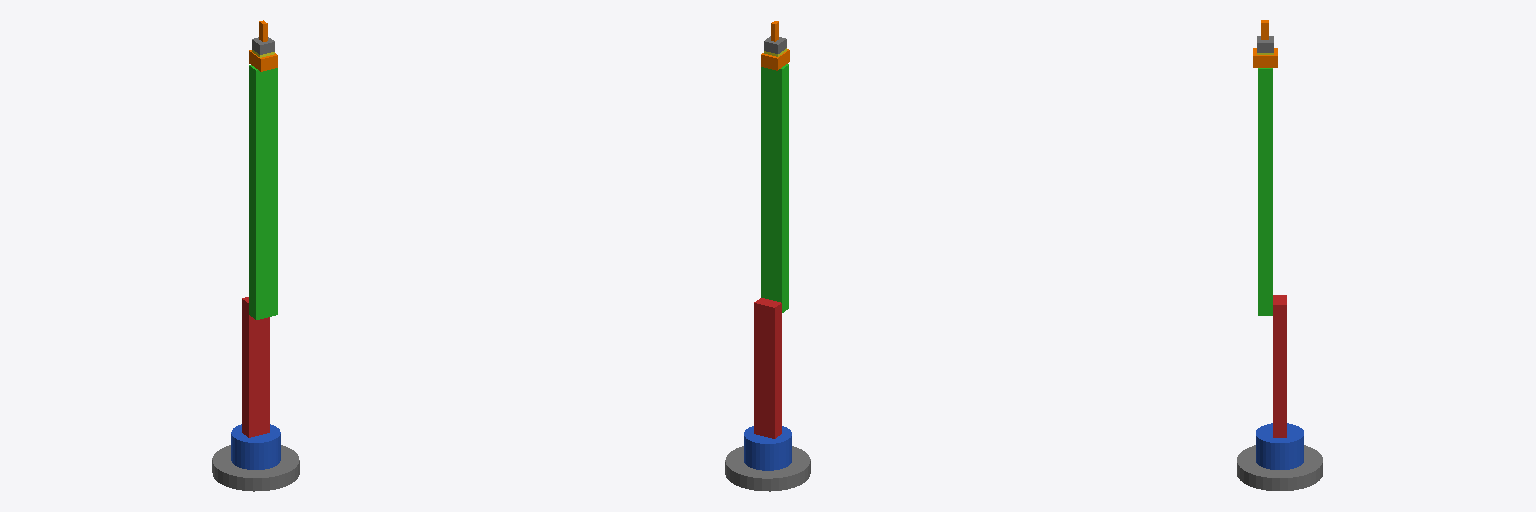
The robot description file, URDF, robot "arm":
<?xml version="1.0"?>
<robot name="arm">

  <material name="gray">   <color rgba="0.5 0.5 0.5 1.0"/></material>
  <material name="blue">   <color rgba="0.2 0.4 0.8 1.0"/></material>
  <material name="red">    <color rgba="0.8 0.2 0.2 1.0"/></material>
  <material name="green">  <color rgba="0.2 0.8 0.2 1.0"/></material>
  <material name="orange"> <color rgba="1.0 0.5 0.0 1.0"/></material>
  <material name="yellow"> <color rgba="0.9 0.9 0.2 1.0"/></material>
  <material name="purple"> <color rgba="0.6 0.2 0.8 1.0"/></material>

  <link name="plate">
    <visual>
      <geometry><cylinder length="0.029471" radius="0.0885"/></geometry>
      <material name="gray"/>
    </visual>
    <collision>
      <geometry><cylinder length="0.029471" radius="0.0885"/></geometry>
    </collision>
    <inertial>
      <mass value="0.5"/>
      <origin xyz="0 0 0" rpy="0 0 0"/>
      <inertia ixx="0.001" ixy="0.0" ixz="0.0" iyy="0.001" iyz="0.0" izz="0.001"/>
    </inertial>
  </link>

  <link name="shoulder_base">
    <visual>
      <geometry><cylinder length="0.061043" radius="0.05"/></geometry>
      <origin rpy="0 0 0" xyz="0 0 0.0305215"/>
      <material name="blue"/>
    </visual>
    <collision>
      <geometry><cylinder length="0.061043" radius="0.05"/></geometry>
      <origin rpy="0 0 0" xyz="0 0 0.0305215"/>
    </collision>
    <inertial>
      <mass value="0.8"/>
      <origin xyz="0 0 0.0305215" rpy="0 0 0"/>
      <inertia ixx="0.002" ixy="0.0" ixz="0.0" iyy="0.002" iyz="0.0" izz="0.001"/>
    </inertial>
  </link>

  <joint name="shoulder_pan" type="continuous">
    <parent link="plate"/>
    <child link="shoulder_base"/>
    <origin xyz="0 0 0.0147355" rpy="0 0 0"/>
    <axis xyz="0 0 1"/>
    <limit effort="10.0" velocity="2.0"/>
    <dynamics damping="0.1" friction="0.05"/>
  </joint>

  <link name="shoulder_arm">
    <visual>
      <geometry><box size="0.05 0.03 0.3"/></geometry>
      <origin xyz="0 0 0.15" rpy="0 0 0"/>
      <material name="red"/>
    </visual>
    <collision>
      <geometry><box size="0.05 0.03 0.3"/></geometry>
      <origin xyz="0 0 0.15" rpy="0 0 0"/>
    </collision>
    <inertial>
      <mass value="0.6"/>
      <origin xyz="0 0 0.15" rpy="0 0 0"/>
      <inertia ixx="0.0046" ixy="0.0" ixz="0.0" iyy="0.0047" iyz="0.0" izz="0.0003"/>
    </inertial>
  </link>

  <joint name="shoulder_tilt" type="revolute">
    <parent link="shoulder_base"/>
    <child link="shoulder_arm"/>
    <origin xyz="0 0 0.061043" rpy="0 0 0"/>
    <axis xyz="0 1 0"/>
    <limit lower="-1.57" upper="1.57" effort="10.0" velocity="2.0"/>
    <dynamics damping="0.1" friction="0.05"/>
  </joint>

  <link name="forearm">
    <visual>
      <geometry><box size="0.05 0.03 0.558"/></geometry>
      <origin xyz="0 0 0.279" rpy="0 0 0"/>
      <material name="green"/>
    </visual>
    <collision>
      <geometry><box size="0.05 0.03 0.558"/></geometry>
      <origin xyz="0 0 0.279" rpy="0 0 0"/>
    </collision>
    <inertial>
      <mass value="0.5"/>
      <origin xyz="0 0 0.279" rpy="0 0 0"/>
      <inertia ixx="0.013" ixy="0.0" ixz="0.0" iyy="0.013" iyz="0.0" izz="0.0002"/>
    </inertial>
  </link>

  <joint name="elbow" type="revolute">
    <parent link="shoulder_arm"/>
    <child link="forearm"/>
    <origin xyz="0 -0.03 0.275" rpy="0 0 0"/>
    <axis xyz="0 1 0"/>
    <limit lower="-3.14159" upper="3.14159" effort="8.0" velocity="2.0"/>
    <dynamics damping="0.1" friction="0.05"/>
  </joint>

  <link name="forearm_tip">
    <visual>
      <geometry><sphere radius="0.01"/></geometry>
      <material name="purple"/>
    </visual>
    <inertial>
      <mass value="0.001"/>
      <origin xyz="0 0 0" rpy="0 0 0"/>
      <inertia ixx="0.000001" ixy="0.0" ixz="0.0" iyy="0.000001" iyz="0.0" izz="0.000001"/>
    </inertial>
  </link>

  <joint name="forearm_tip_joint" type="fixed">
    <parent link="forearm"/>
    <child link="forearm_tip"/>
    <origin xyz="0 0 0.558" rpy="0 0 0"/>
  </joint>

  <link name="wrist_pitch_link">
    <visual>
      <geometry><box size="0.04 0.05 0.028"/></geometry>
      <origin xyz="0 0 0.014" rpy="0 0 0"/>
      <material name="orange"/>
    </visual>
    <collision>
      <geometry><box size="0.04 0.05 0.028"/></geometry>
      <origin xyz="0 0 0.014" rpy="0 0 0"/>
    </collision>
    <inertial>
      <mass value="0.2"/>
      <origin xyz="0 0 0.014" rpy="0 0 0"/>
      <inertia ixx="0.0001" ixy="0.0" ixz="0.0" iyy="0.00001" iyz="0.0" izz="0.0001"/>
    </inertial>
  </link>

  <joint name="wrist_pitch" type="revolute">
    <parent link="forearm"/>
    <child link="wrist_pitch_link"/>
    <origin xyz="0 0 0.558" rpy="0 0 0"/>
    <axis xyz="0 1 0"/>
    <limit lower="-1.57" upper="1.57" effort="5.0" velocity="3.0"/>
    <dynamics damping="0.05" friction="0.02"/>
  </joint>

  <link name="wrist_roll_link">
    <visual>
      <geometry><box size="0.035 0.035 0.006"/></geometry>
      <origin xyz="0 0 0.003" rpy="0 0 0"/>
      <material name="yellow"/>
    </visual>
    <collision>
      <geometry><box size="0.035 0.035 0.006"/></geometry>
      <origin xyz="0 0 0.003" rpy="0 0 0"/>
    </collision>
    <inertial>
      <mass value="0.05"/>
      <origin xyz="0 0 0.003" rpy="0 0 0"/>
      <inertia ixx="0.00001" ixy="0.0" ixz="0.0" iyy="0.00001" iyz="0.0" izz="0.00001"/>
    </inertial>
  </link>

  <joint name="wrist_roll" type="revolute">
    <parent link="wrist_pitch_link"/>
    <child link="wrist_roll_link"/>
    <origin xyz="0 0 0.028" rpy="0 0 0"/>
    <axis xyz="0 0 1"/>
    <limit lower="-6.28318" upper="6.28318" effort="10.0" velocity="2.0"/>
    <dynamics damping="0.05" friction="0.02"/>
  </joint>

  <!-- Parallel-jaw gripper; gripper_base is the `arm` group tip. -->
  <link name="gripper_base">
    <visual>
      <geometry><box size="0.035 0.035 0.022"/></geometry>
      <origin xyz="0 0 0.011" rpy="0 0 0"/>
      <material name="gray"/>
    </visual>
    <collision>
      <geometry><box size="0.035 0.035 0.022"/></geometry>
      <origin xyz="0 0 0.011" rpy="0 0 0"/>
    </collision>
    <inertial>
      <mass value="0.05"/>
      <origin xyz="0 0 0.011" rpy="0 0 0"/>
      <inertia ixx="0.00001" ixy="0.0" ixz="0.0" iyy="0.00001" iyz="0.0" izz="0.00001"/>
    </inertial>
  </link>

  <joint name="gripper_mount" type="fixed">
    <parent link="wrist_roll_link"/>
    <child link="gripper_base"/>
    <origin xyz="0 0 0.006" rpy="0 0 0"/>
  </joint>

  <link name="left_finger">
    <visual>
      <geometry><box size="0.01 0.008 0.04"/></geometry>
      <origin xyz="0 0 0.02" rpy="0 0 0"/>
      <material name="orange"/>
    </visual>
    <collision>
      <geometry><box size="0.01 0.008 0.04"/></geometry>
      <origin xyz="0 0 0.02" rpy="0 0 0"/>
    </collision>
    <inertial>
      <mass value="0.012"/>
      <origin xyz="0 0 0.02" rpy="0 0 0"/>
      <inertia ixx="0.000002" ixy="0.0" ixz="0.0" iyy="0.000002" iyz="0.0" izz="0.0000002"/>
    </inertial>
  </link>

  <!-- Per-finger travel from closed; jaw gap is twice this. -->
  <joint name="left_finger_joint" type="prismatic">
    <parent link="gripper_base"/>
    <child link="left_finger"/>
    <origin xyz="0 0.004 0.022" rpy="0 0 0"/>
    <axis xyz="0 1 0"/>
    <limit lower="0.0" upper="0.015" effort="20.0" velocity="0.1"/>
    <dynamics damping="0.5" friction="0.1"/>
  </joint>

  <link name="right_finger">
    <visual>
      <geometry><box size="0.01 0.008 0.04"/></geometry>
      <origin xyz="0 0 0.02" rpy="0 0 0"/>
      <material name="orange"/>
    </visual>
    <collision>
      <geometry><box size="0.01 0.008 0.04"/></geometry>
      <origin xyz="0 0 0.02" rpy="0 0 0"/>
    </collision>
    <inertial>
      <mass value="0.012"/>
      <origin xyz="0 0 0.02" rpy="0 0 0"/>
      <inertia ixx="0.000002" ixy="0.0" ixz="0.0" iyy="0.000002" iyz="0.0" izz="0.0000002"/>
    </inertial>
  </link>

  <joint name="right_finger_joint" type="prismatic">
    <parent link="gripper_base"/>
    <child link="right_finger"/>
    <origin xyz="0 -0.004 0.022" rpy="0 0 0"/>
    <axis xyz="0 -1 0"/>
    <limit lower="0.0" upper="0.015" effort="20.0" velocity="0.1"/>
    <mimic joint="left_finger_joint" multiplier="1.0" offset="0.0"/>
    <dynamics damping="0.5" friction="0.1"/>
  </joint>

  <!-- TF-only frame at the grasp point between the fingertips. -->
  <link name="grasp_link"/>

  <joint name="grasp_frame" type="fixed">
    <parent link="gripper_base"/>
    <child link="grasp_link"/>
    <origin xyz="0 0 0.045" rpy="0 0 0"/>
  </joint>

</robot>

--- Facts derived from the render (not from the file) ---
Views: 3 orthographic renders of the robot side by side, from view 1: azimuth 30°, elevation 25°; view 2: azimuth 150°, elevation 25°; view 3: azimuth 270°, elevation 25°.
Robot: arm — 11 links, 10 joints (4 revolute, 1 continuous, 2 prismatic, 3 fixed); root link plate; default pose: every joint at zero.
Visible links, largest first — view 1: forearm, shoulder_arm, plate, shoulder_base; view 2: forearm, shoulder_arm, plate, shoulder_base; view 3: forearm, plate, shoulder_arm, shoulder_base.
Link boxes in pixels (x1,y1,x2,y2): forearm: (249, 65, 277, 319); shoulder_arm: (242, 297, 269, 437); plate: (212, 445, 299, 491); shoulder_base: (231, 424, 280, 469); forearm: (761, 64, 788, 312); shoulder_arm: (754, 298, 781, 438); plate: (725, 446, 810, 491); shoulder_base: (744, 426, 791, 470); forearm: (1258, 68, 1272, 315); plate: (1237, 445, 1322, 490); shoulder_arm: (1273, 295, 1286, 437); shoulder_base: (1256, 423, 1303, 469).
Bounding box of the posed robot: 0.177 × 0.177 × 1.02 m (x, y, z).
Geometry: primitives only (box / cylinder / sphere), no mesh files.
